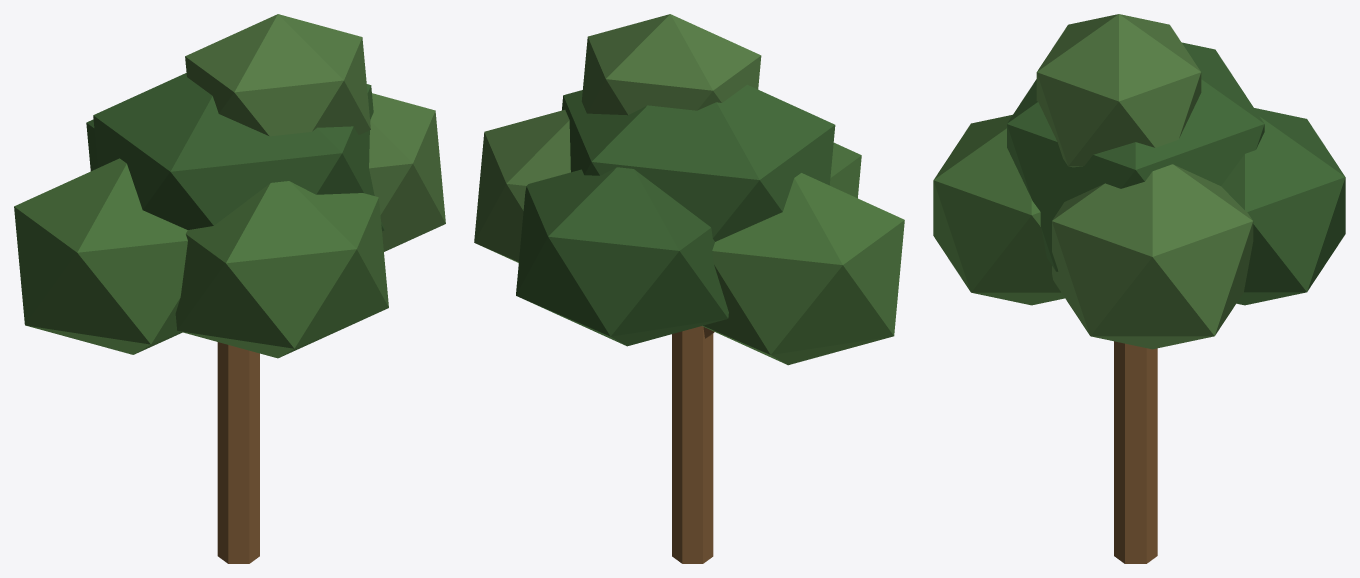
File: forestTree.glb
3 views of the same model, side by side, from view 1: azimuth 30°, elevation 25°; view 2: azimuth 150°, elevation 25°; view 3: azimuth 270°, elevation 25° (orthographic). The views are drawn at different scales.
Parts seen in each view (by area): view 1: ForestCanopyMesh; view 2: ForestCanopyMesh; view 3: ForestCanopyMesh.
Boxes of the visible parts, left/top/right/bottom form: ForestCanopyMesh: left=14, top=14, right=445, bottom=563; ForestCanopyMesh: left=474, top=14, right=904, bottom=563; ForestCanopyMesh: left=933, top=14, right=1345, bottom=563.
Size of the model in its own units: 2.94 by 3.67 by 2.46.
